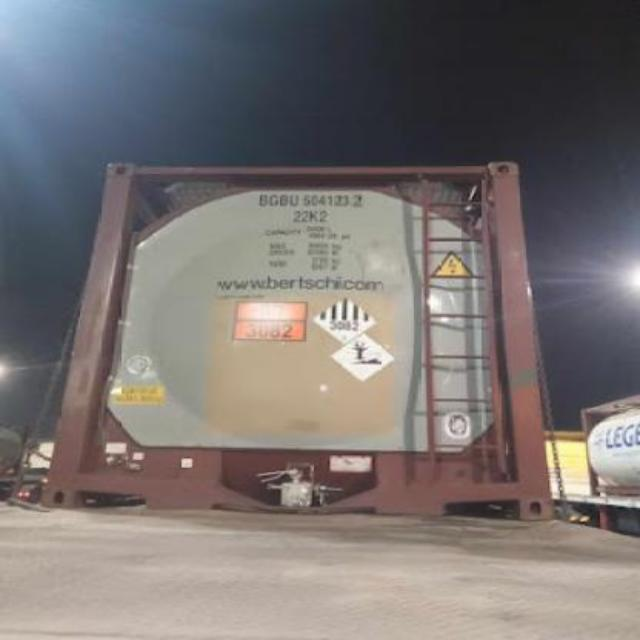0: (310, 189, 318, 207)
1: (326, 190, 334, 206)
2: (352, 191, 362, 207), (334, 191, 340, 207)
3: (342, 190, 350, 206)
4: (318, 189, 326, 207)
5: (302, 188, 310, 206)
B: (258, 190, 268, 206), (278, 191, 288, 207)
G: (268, 191, 278, 207)
U: (288, 188, 298, 204)
